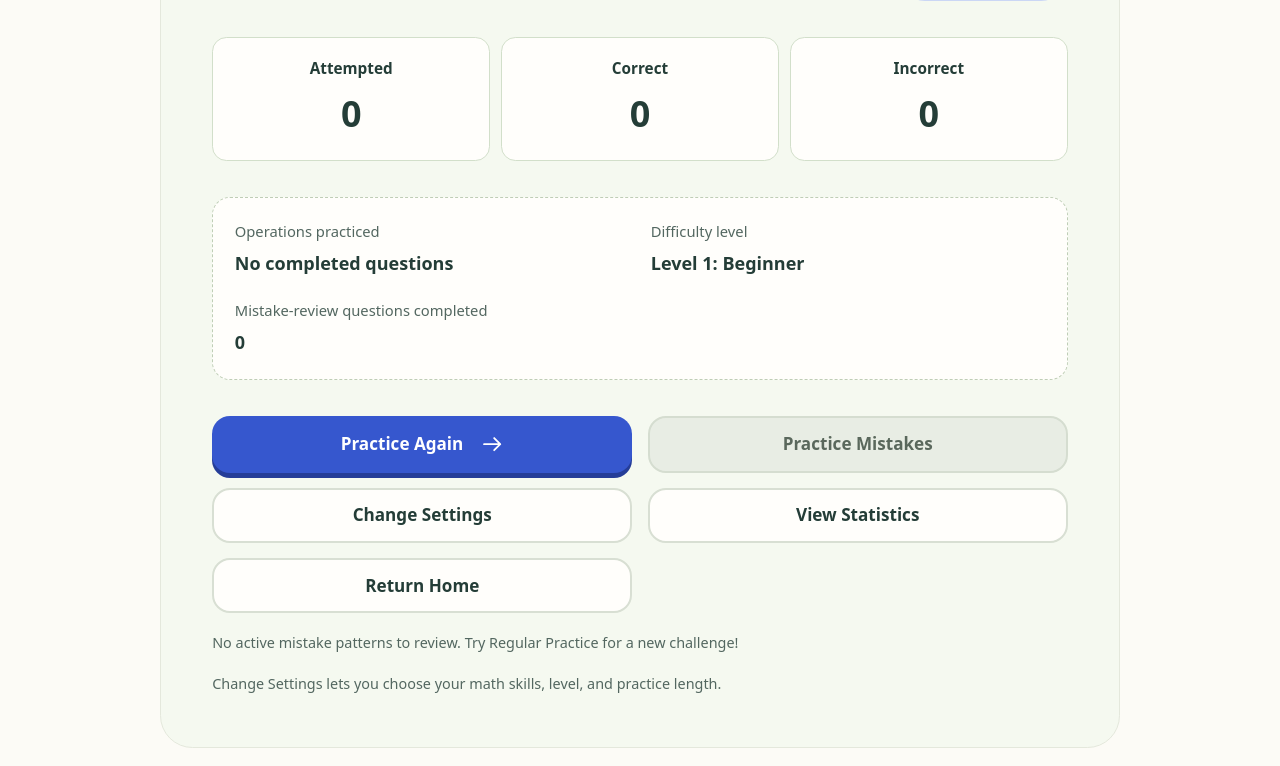
Test: View Statistics navigates to /statistics
(page scrolled)
Click the link "View Statistics" at (858,516), box x1=648 y1=488 x2=1068 y2=543
(page scrolled)
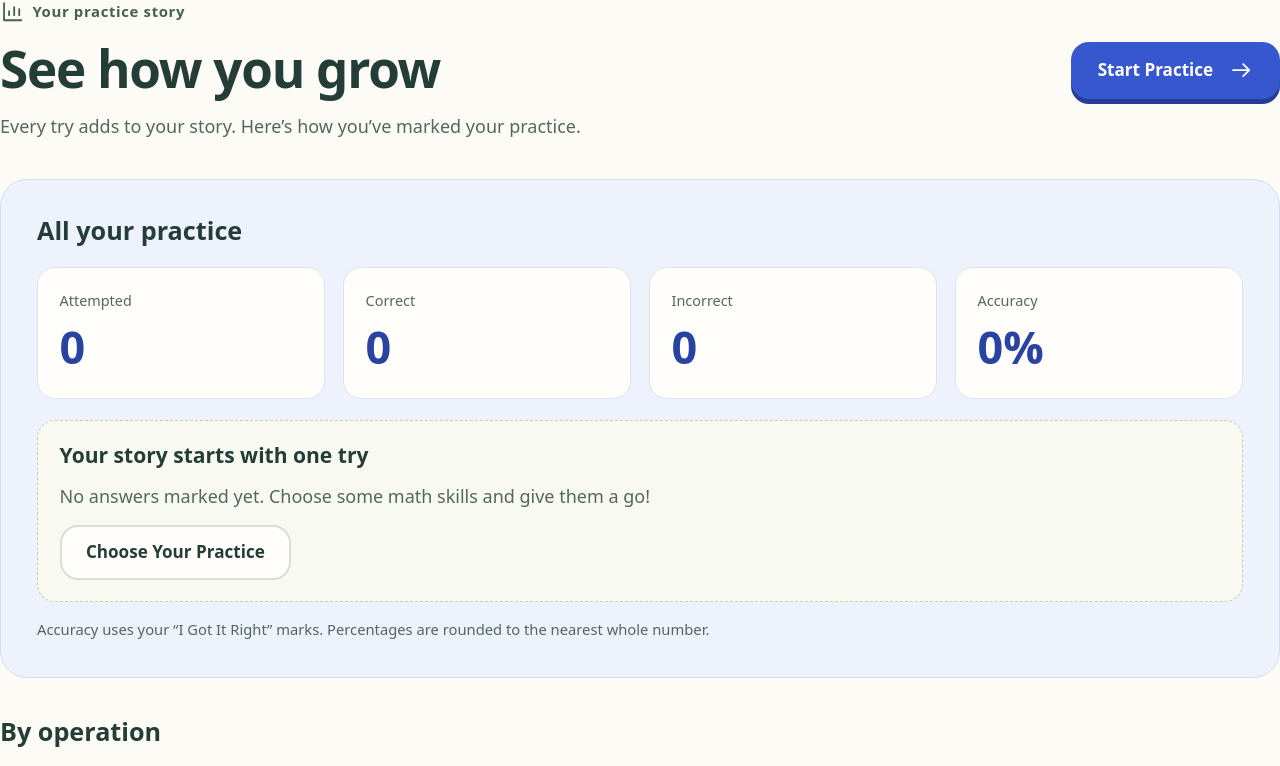
expect the heading "See how you grow" is shown: met, box x1=0 y1=33 x2=440 y2=103
